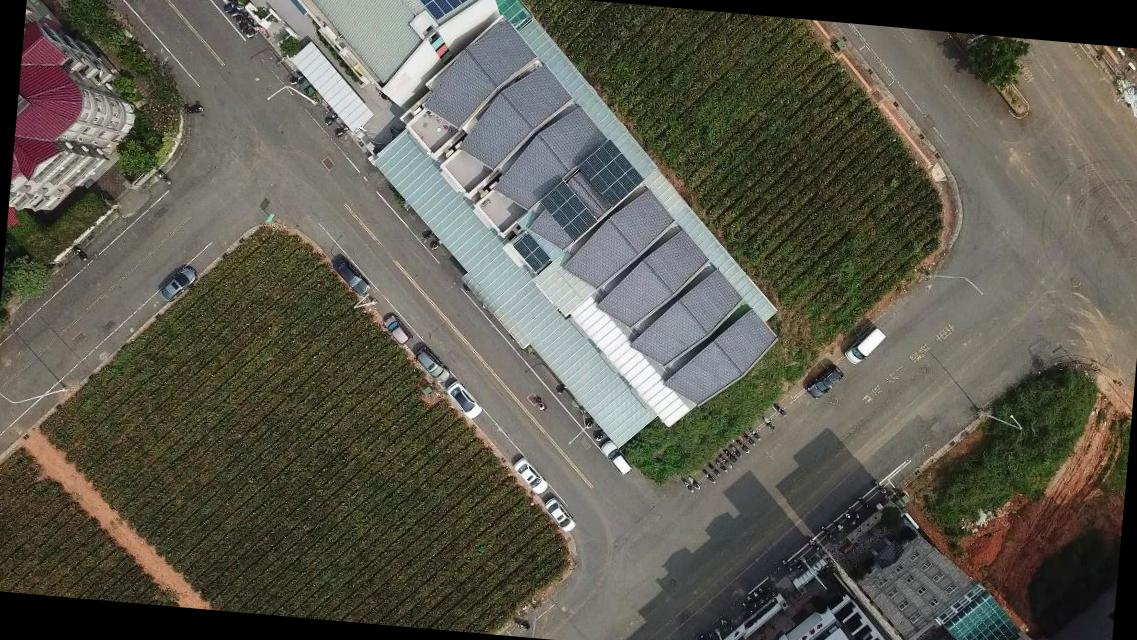vehicle: (842, 322, 887, 368), (328, 256, 374, 297), (511, 455, 550, 496), (413, 343, 452, 383), (445, 380, 483, 420), (806, 361, 843, 402), (596, 438, 634, 477), (159, 264, 196, 304), (542, 496, 578, 534), (380, 314, 414, 348)
